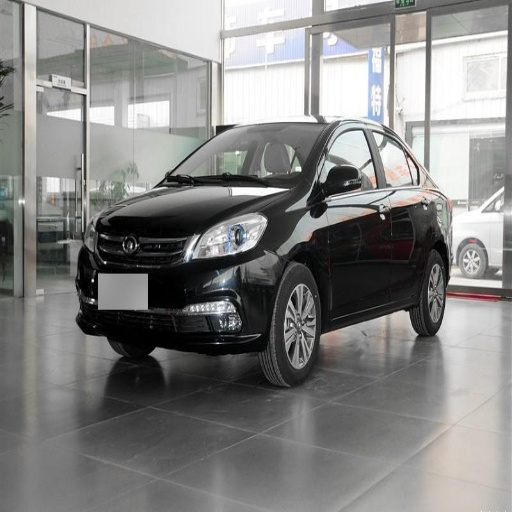front_bumper: (76, 210, 282, 354)
front_glass: (169, 124, 324, 185)
front_left_door: (315, 124, 388, 315)
